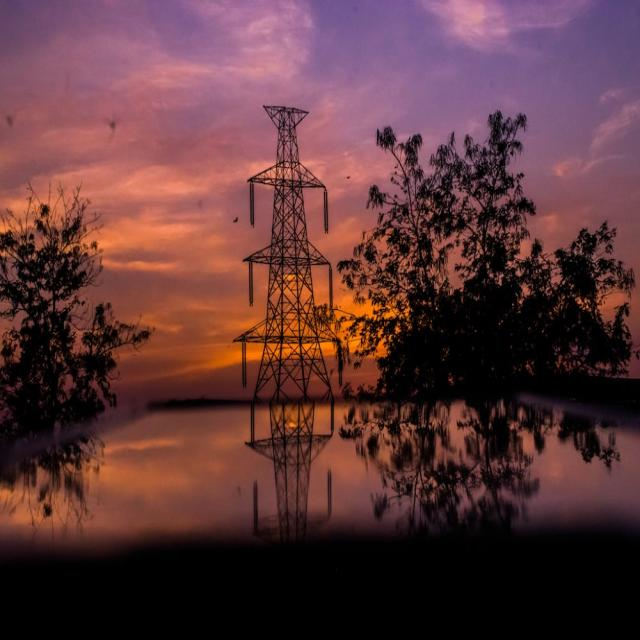transmission tower: (192, 76, 364, 429)
